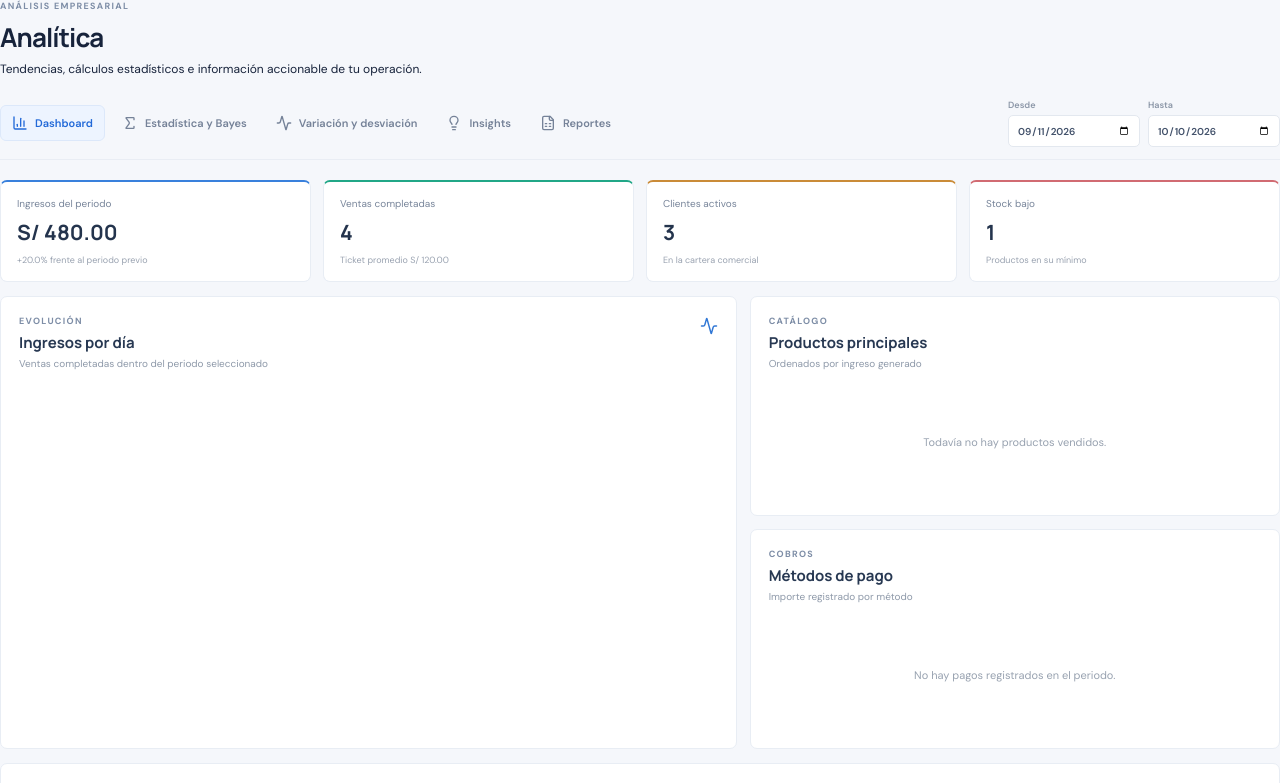
Scenario: AnalyticsPage › muestra Variación y desviación después de Estadística y Bayes
What coordinates should you click on to do the following:
click the tab "Variación y desviación"
I would click on:
 (347, 123)
Its box is [264, 105, 430, 141].
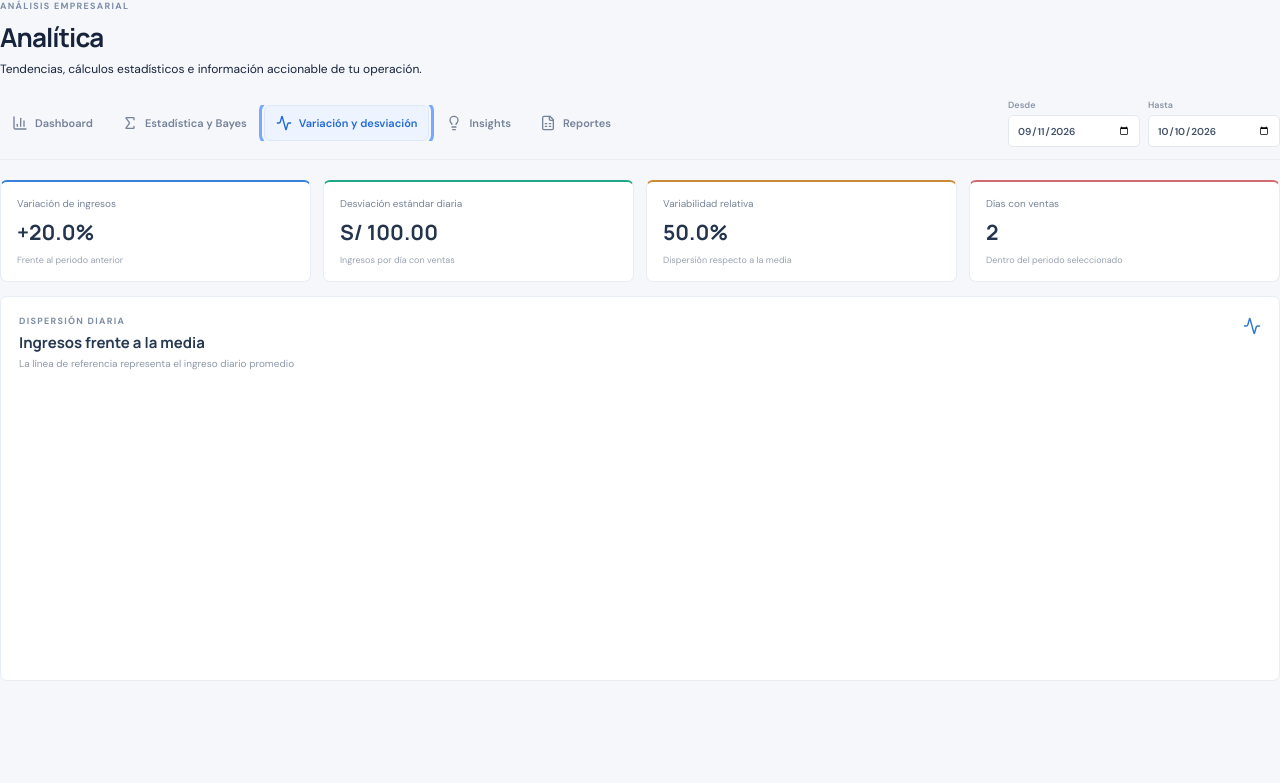
Expected: the heading "Ingresos frente a la media" is shown, [19, 332, 205, 353]
Expected: the text "+20.0%" is shown, [17, 218, 94, 246]
Expected: the text "50.0%" is shown, [663, 218, 728, 246]
